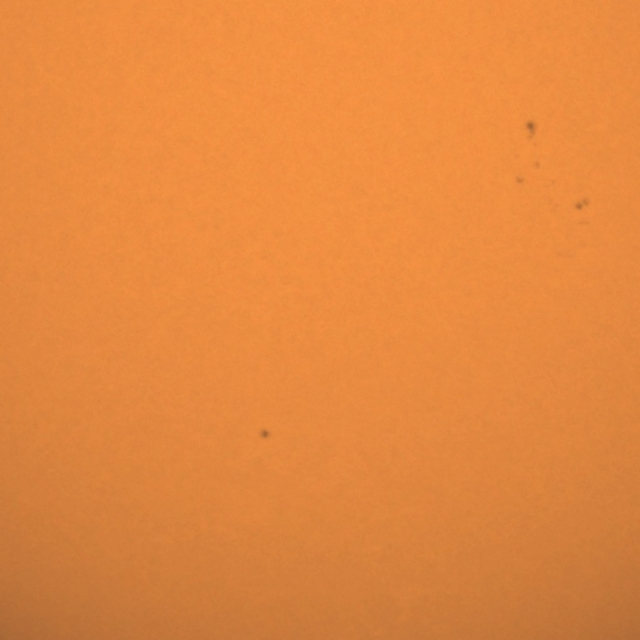sunspot: (523, 118, 539, 147), (573, 197, 591, 213), (258, 428, 272, 441), (514, 175, 526, 186), (532, 159, 542, 171)
